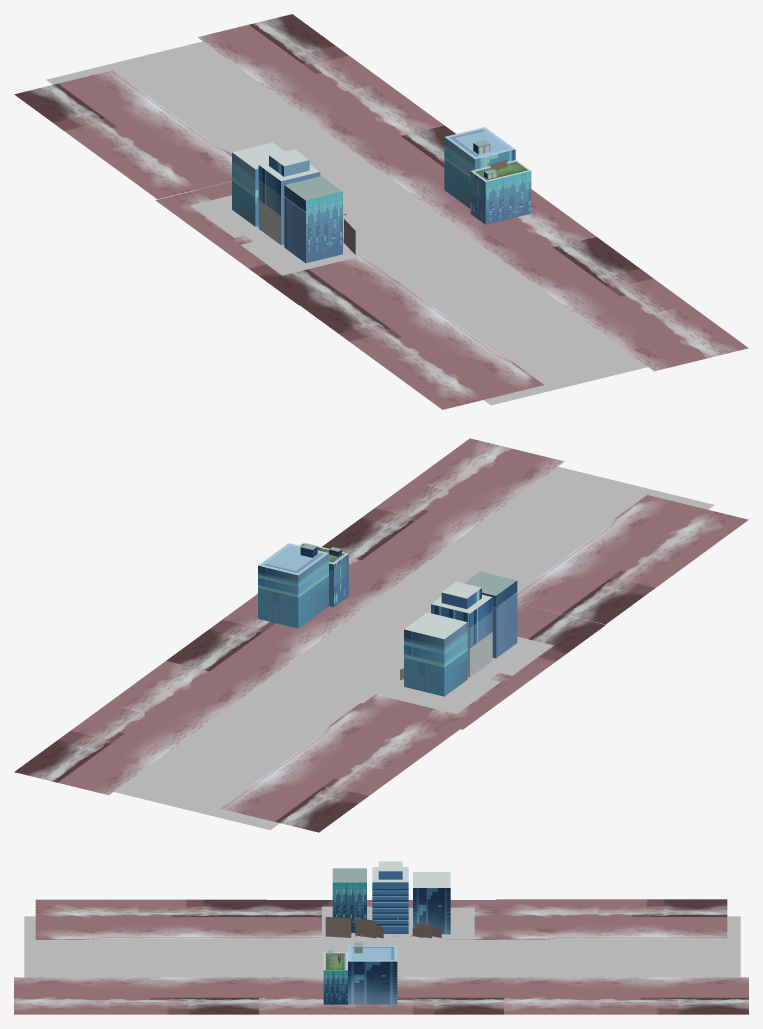
The model's file is Stage_1001_Obj_01.fbx.
The picture shows the model from 3 angles, top to bottom: view 1: azimuth 30°, elevation 25°; view 2: azimuth 150°, elevation 25°; view 3: azimuth 270°, elevation 25°; orthographic projection. The views are drawn at different scales.
Parts seen in each view (by area): view 1: Plane.002, Cube.008, Cube.004, Cube.012, Cube.011, Plane.001, Plane, Cube.025, Cube.010, Cube.009, Cube.034, Cube.024 (+5 smaller); view 2: Plane.001, Cube.008, Cube.004, Cube.011, Cube.012, Plane.002, Plane, Cube.025, Cube.010, Cube.001, Cube.003, Cube.024 (+5 smaller); view 3: Plane.001, Plane.002, Cube.012, Cube.011, Cube.004, Cube.008, Cube.025, Plane, Cube.010, Cube.001, Cube.024, Cube.003 (+7 smaller).
Part boxes in pixels (x1,y1,x2,y2): Plane.002: (401, 258, 647, 405); Cube.008: (197, 14, 444, 148); Cube.004: (502, 237, 748, 371); Cube.012: (299, 281, 543, 409); Cube.011: (14, 70, 231, 199); Plane.001: (46, 41, 350, 159); Plane: (197, 150, 499, 282); Cube.025: (350, 125, 596, 259); Cube.010: (155, 181, 396, 304); Cube.009: (284, 176, 342, 263); Cube.034: (470, 160, 531, 224); Cube.024: (258, 149, 320, 245); Plane.001: (114, 683, 355, 830); Cube.008: (14, 661, 260, 795); Cube.004: (322, 438, 564, 572); Cube.011: (220, 703, 461, 832); Cube.012: (517, 495, 748, 624); Plane.002: (410, 466, 714, 592); Plane: (262, 575, 563, 706); Cube.025: (166, 557, 412, 683); Cube.010: (363, 603, 605, 729); Cube.001: (258, 543, 328, 628); Cube.003: (404, 612, 467, 696); Cube.024: (431, 581, 492, 677); Plane.001: (502, 916, 740, 977); Plane.002: (24, 916, 262, 977); Cube.012: (35, 899, 266, 939); Cube.011: (496, 899, 727, 939); Cube.004: (14, 977, 258, 1014); Cube.008: (504, 977, 748, 1014); Cube.025: (259, 977, 503, 1014); Plane: (263, 938, 501, 977); Cube.010: (266, 900, 497, 939); Cube.001: (348, 945, 397, 1004); Cube.024: (372, 861, 408, 933); Cube.003: (413, 872, 450, 934).
Size of the model in its own units: 618 by 187 by 1666.
